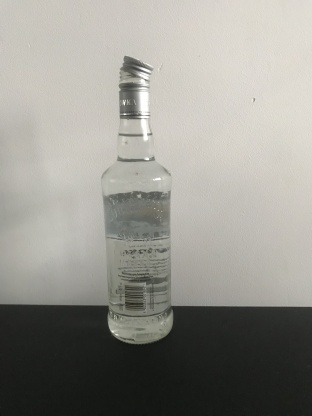nakretka: (117, 52, 154, 119)
